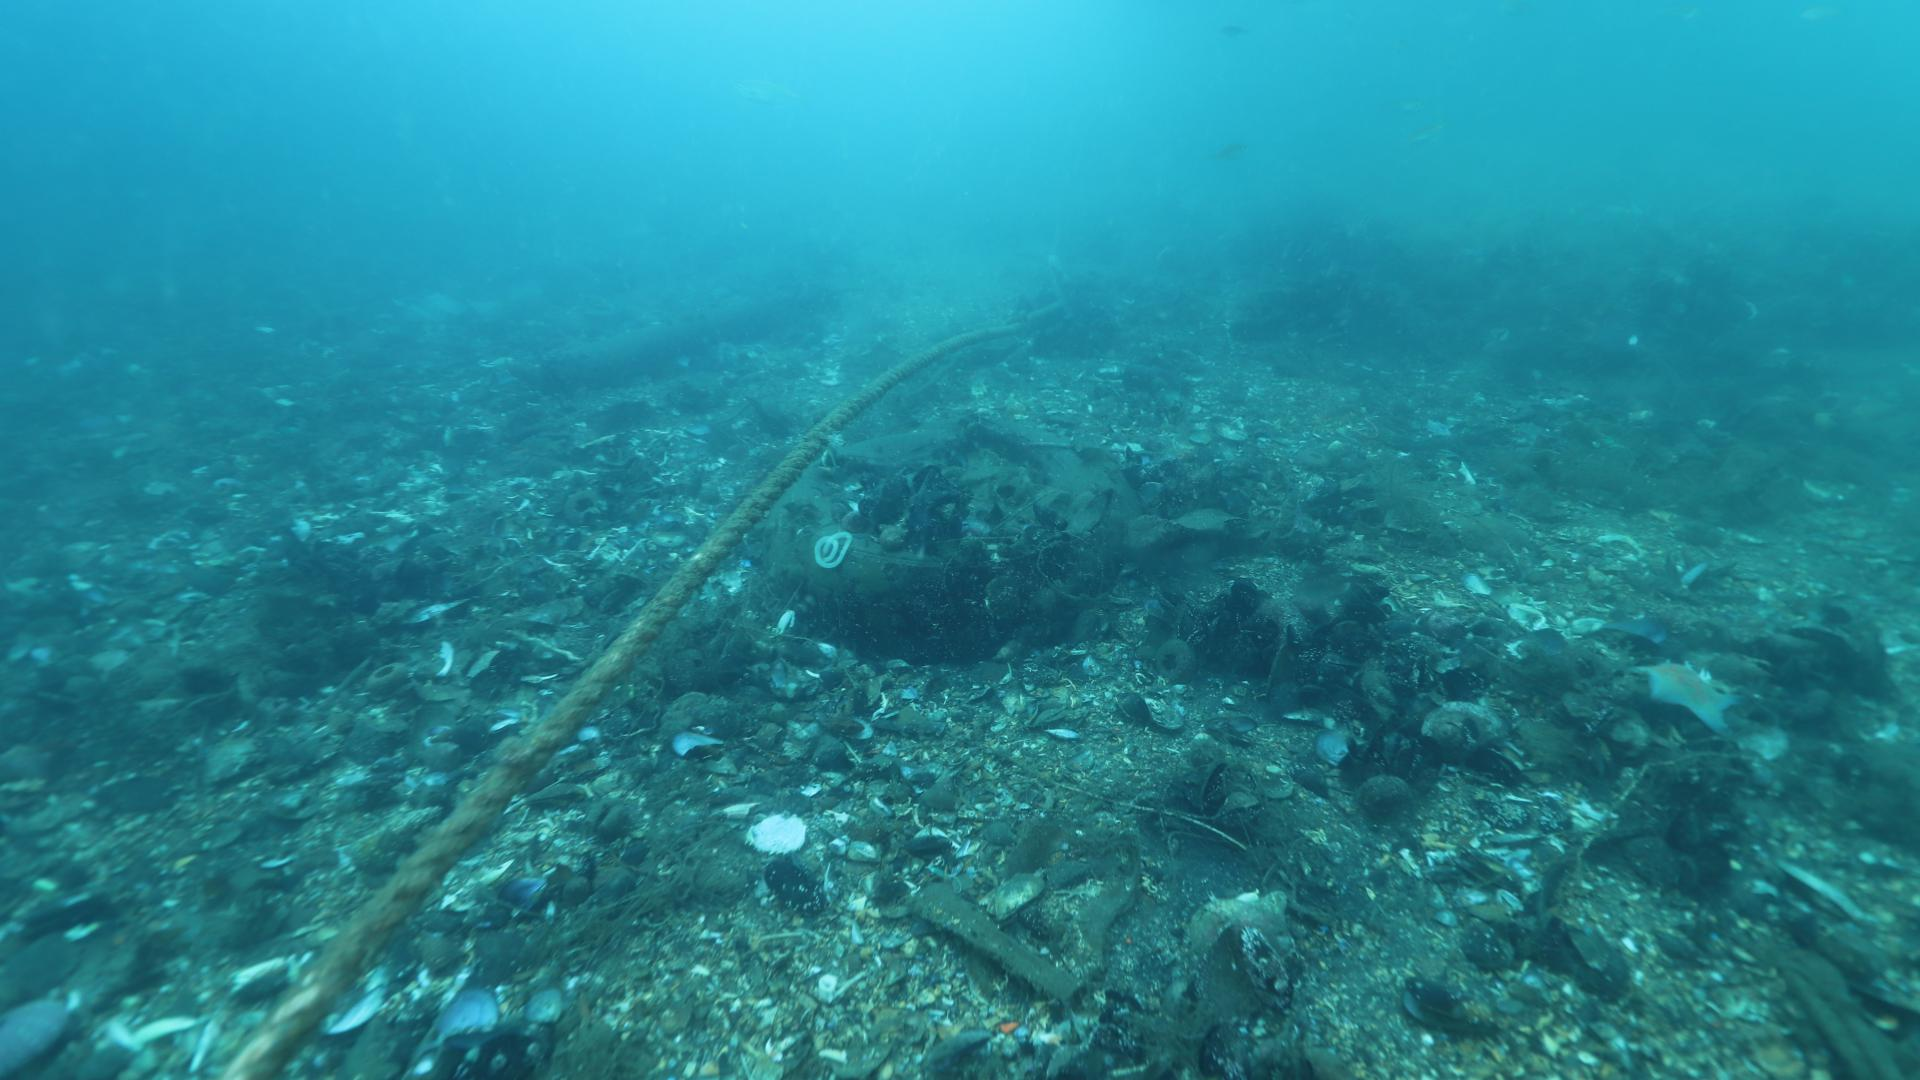rope: (222, 320, 1036, 1080)
